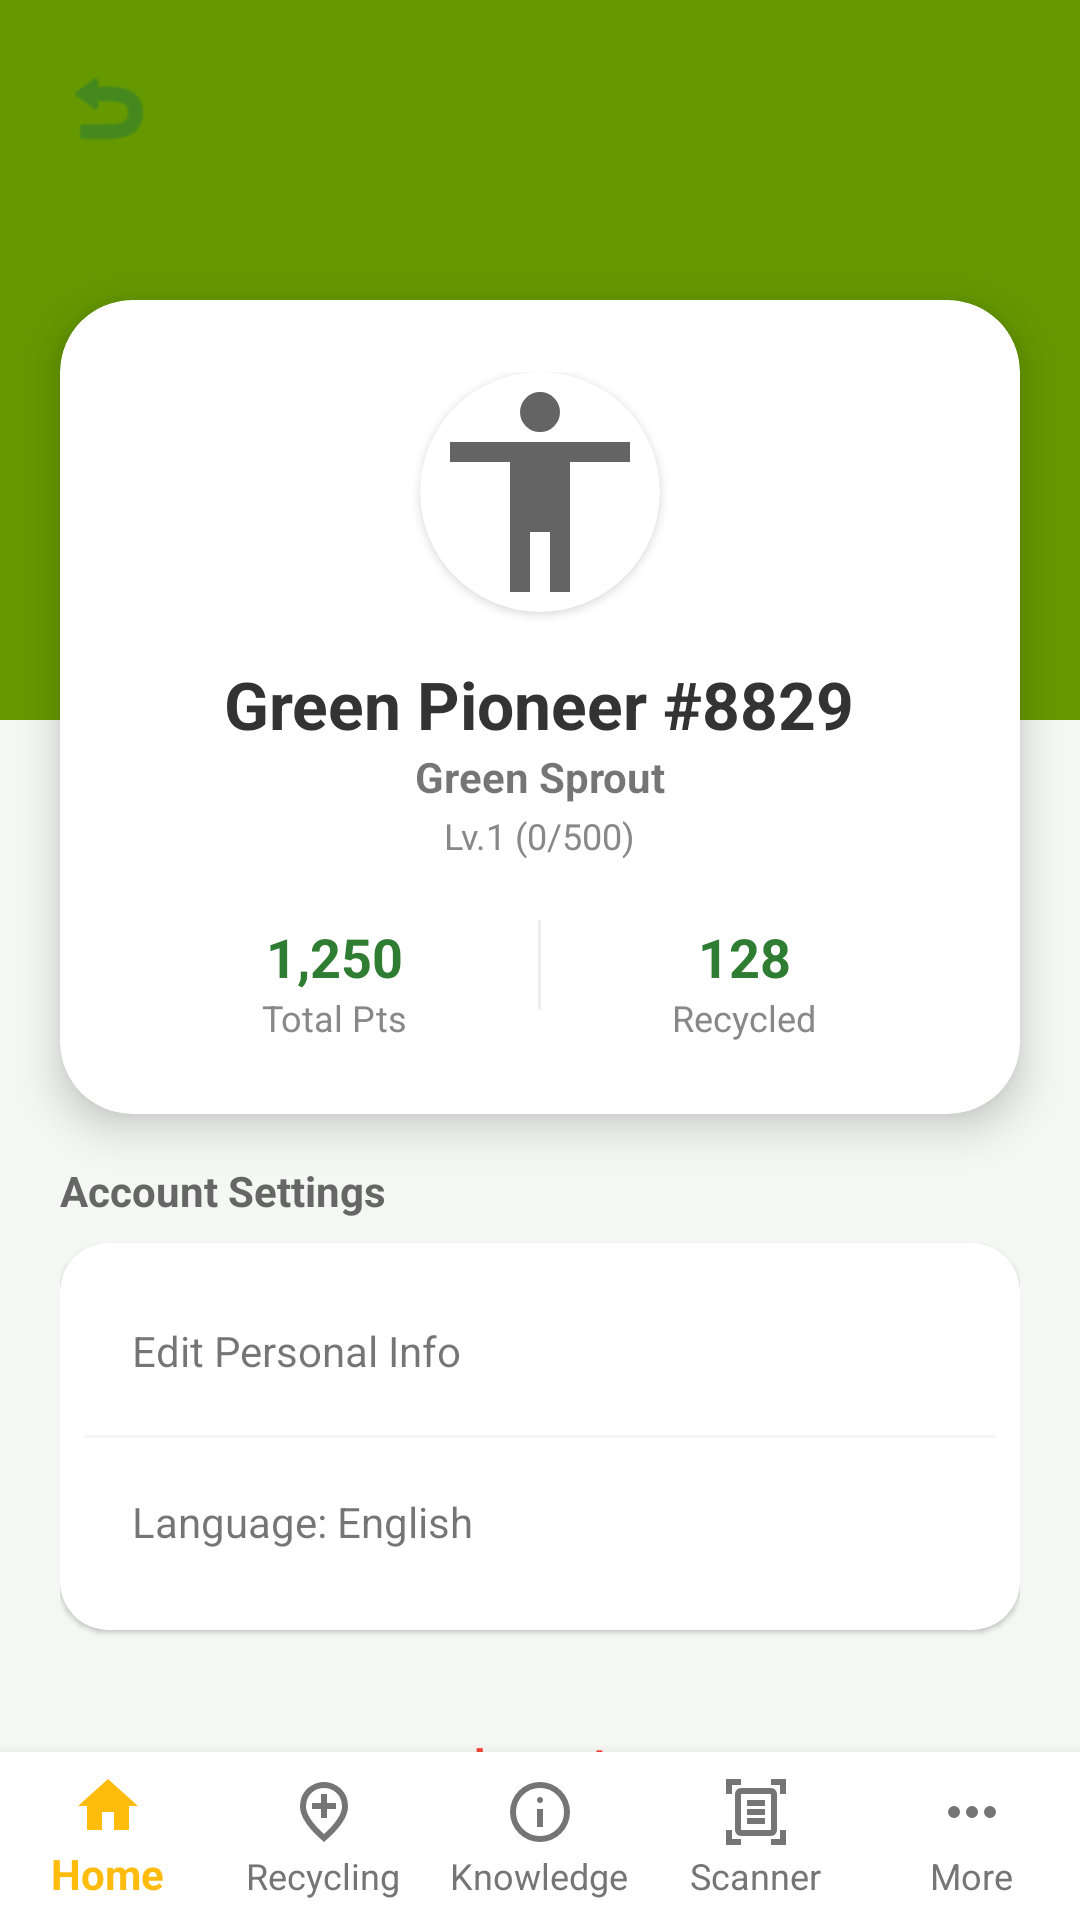

Named icons in this screenshot (1080x1920) and their centers, [x,y]:
revert: [109,108]
